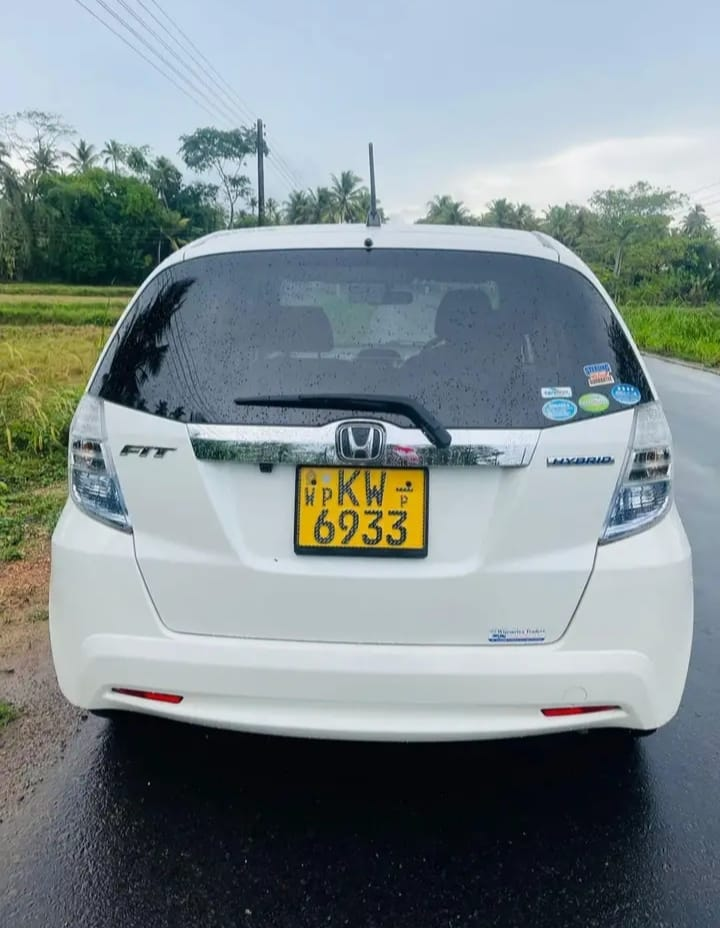number_plate: (297, 462, 428, 554)
